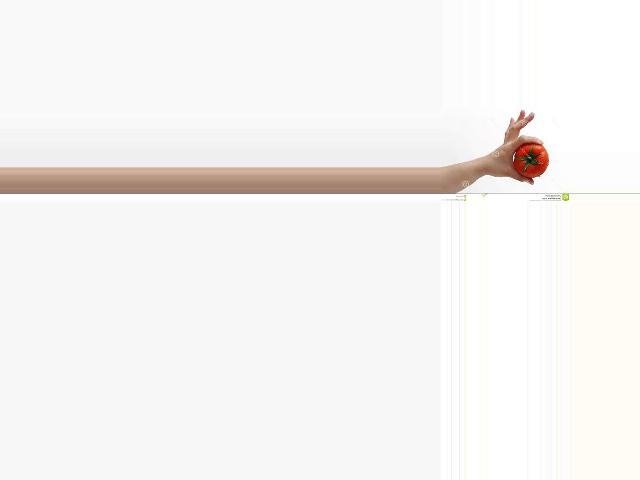tomato: (513, 143, 548, 178)
